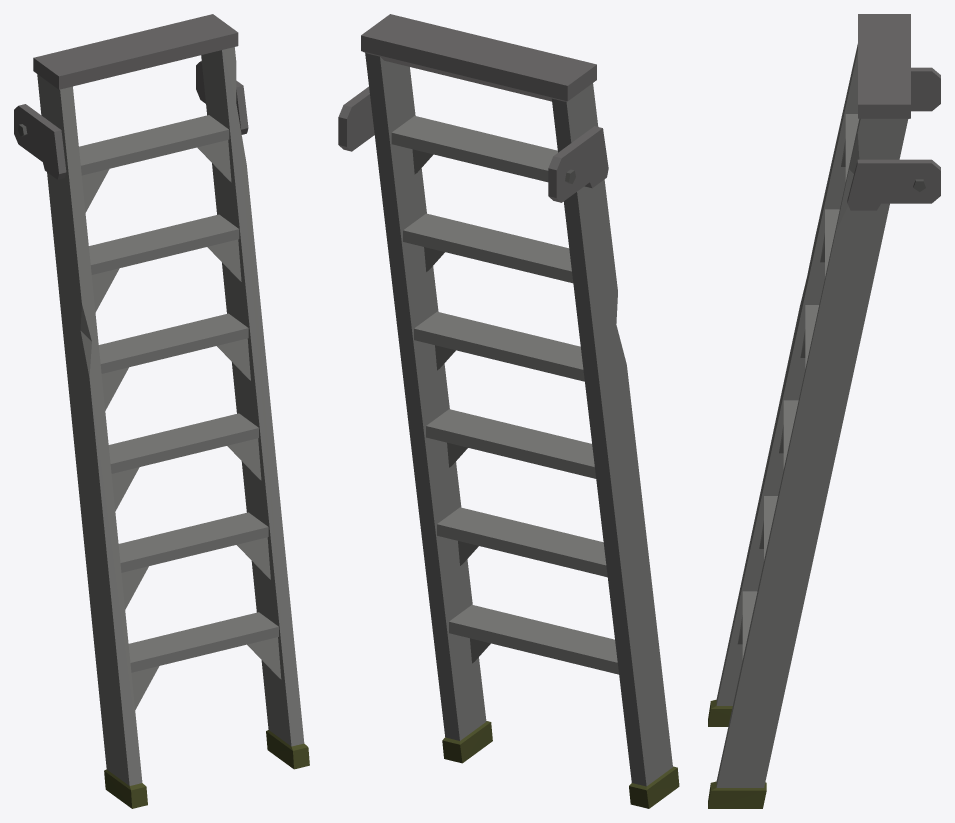
Rendered from SM_Prop_Ladder_Folding_01.fbx.
3 views of the same model, side by side, from view 1: azimuth 30°, elevation 25°; view 2: azimuth 150°, elevation 25°; view 3: azimuth 270°, elevation 25° (orthographic). The views are drawn at different scales.
Parts seen in each view (by area): view 1: SM_Prop_Ladder_Folding_01; view 2: SM_Prop_Ladder_Folding_01; view 3: SM_Prop_Ladder_Folding_01.
Part boxes in pixels (x1,y1,x2,y2): SM_Prop_Ladder_Folding_01: (14, 14, 309, 808); SM_Prop_Ladder_Folding_01: (338, 14, 679, 808); SM_Prop_Ladder_Folding_01: (708, 14, 940, 808).
Size of the model in its own units: 73.74 by 243 by 72.91.
